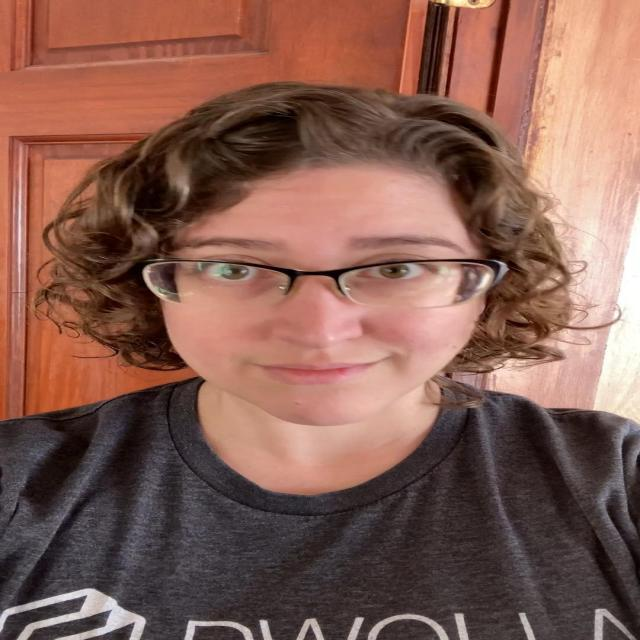no hat: (147, 152, 498, 434)
